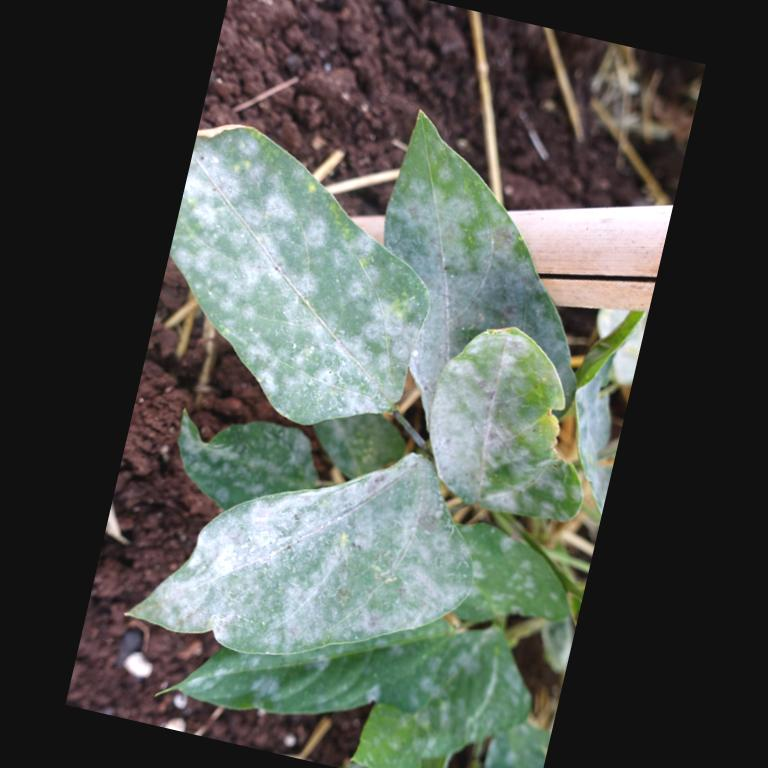powdery-mildew: (212, 468, 431, 658), (264, 258, 398, 410), (182, 166, 296, 292), (431, 349, 534, 482)
